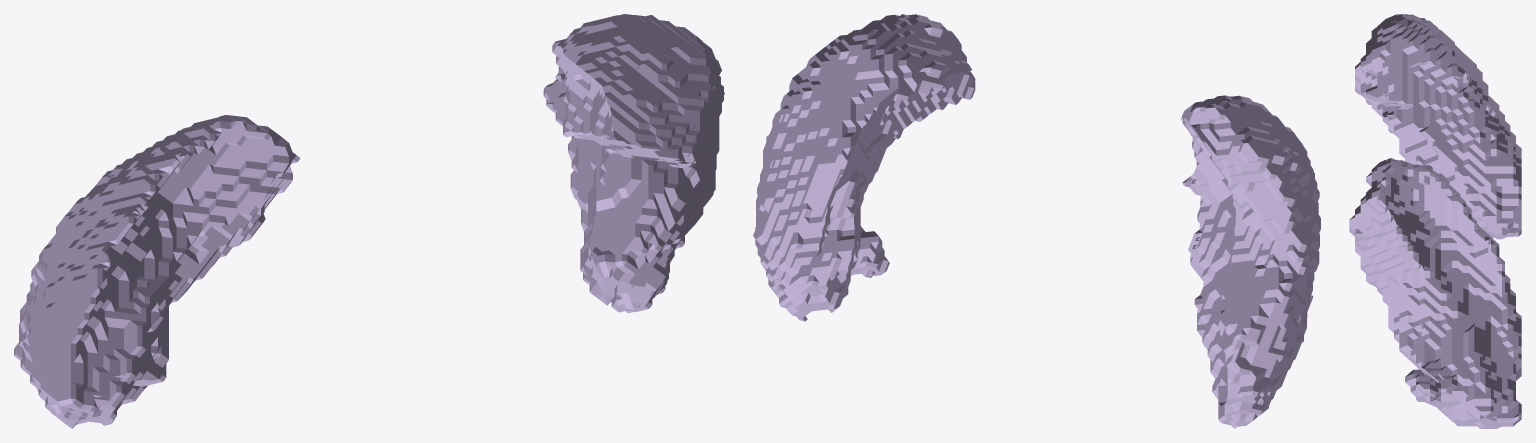
The model's file is region_0158_Val-g__lateral_division_of_valvula_cerebelli__granular_layer_.glb.
The picture shows the model from 3 angles, left to right: view 1: azimuth 30°, elevation 25°; view 2: azimuth 150°, elevation 25°; view 3: azimuth 270°, elevation 25°; orthographic projection. The views are drawn at different scales.
Visible parts, largest first — view 1: world; view 2: world; view 3: world.
Boxes of the visible parts, <box> form: world: <box>14,14,724,428</box>; world: <box>753,14,1320,428</box>; world: <box>1349,14,1521,428</box>.
Size of the model in its own units: 0.816 by 0.384 by 0.248.
